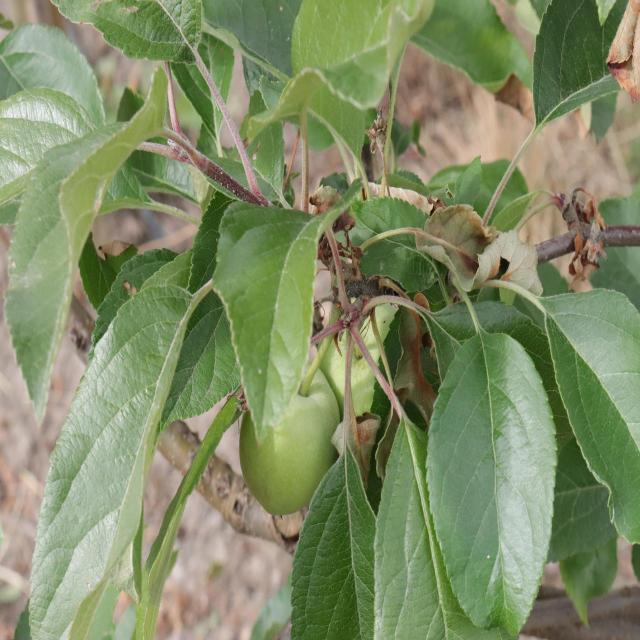-FireBlight-: (547, 182, 615, 290)
